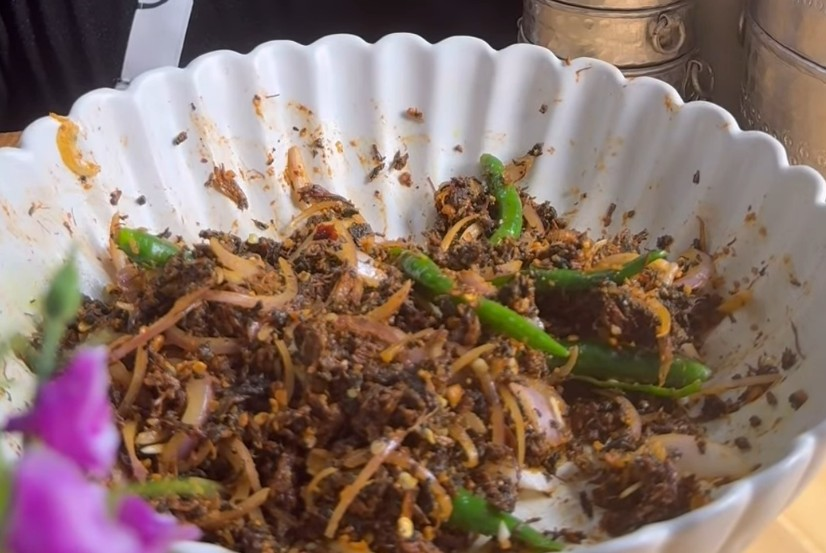gundruk: (73, 171, 704, 516)
